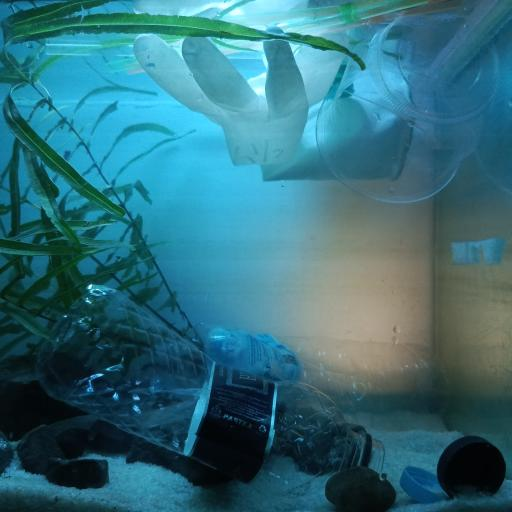bottle_cap: (438, 434, 506, 499), (400, 467, 446, 501)
glove: (133, 33, 410, 179)
plastic_bottle: (36, 282, 386, 492), (173, 321, 446, 430)
plastic_cup: (319, 13, 494, 206)
plastic_straw: (40, 38, 263, 62), (227, 1, 429, 26)
